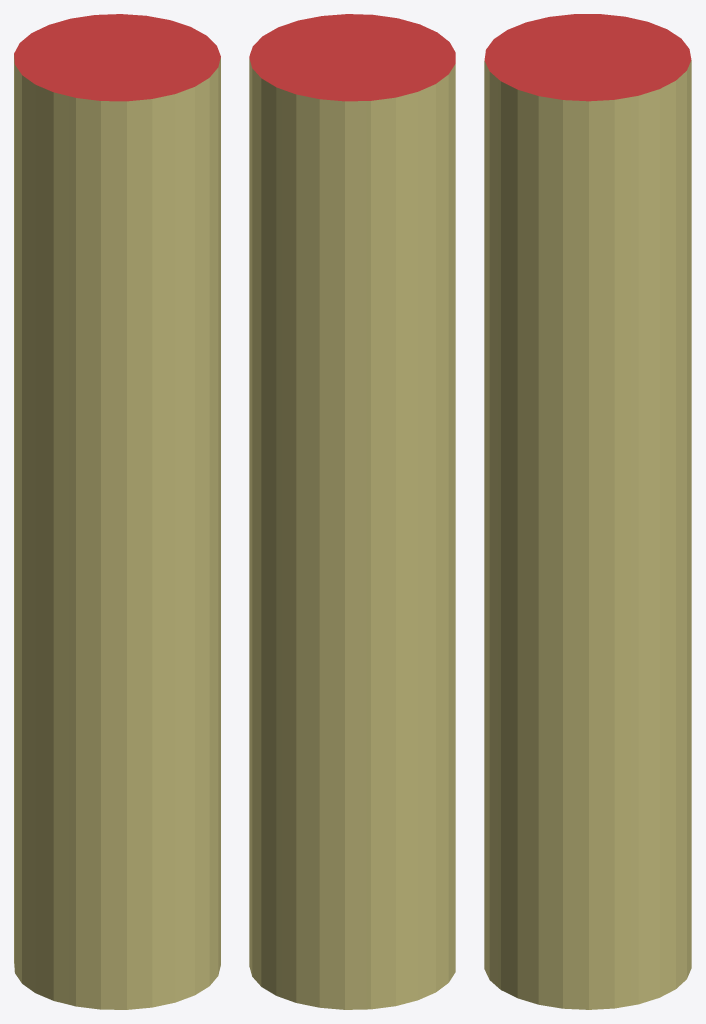
The picture shows the model from 3 angles, left to right: view 1: azimuth 30°, elevation 25°; view 2: azimuth 150°, elevation 25°; view 3: azimuth 270°, elevation 25°; orthographic projection.
Size of the model in its own units: 2.04 by 2.05 by 9.92.
